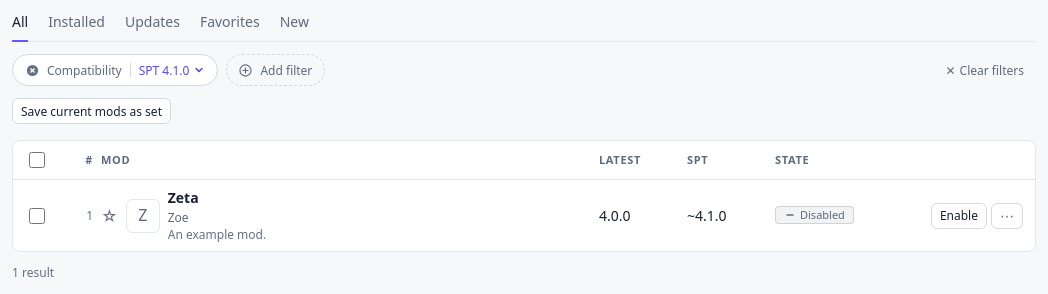
Test: the columns a quick tab shows › shows a dash where the catalog knows no installed version
The width and height of the screenshot is (1048, 294).
Expected: the checkbox named "Select Zeta" is shown, [29,208,45,224]
What coordinates should you click on to do the following:
click the button "Installed"
I would click on:
 (77, 27)
Its box is [48,12,105,42].
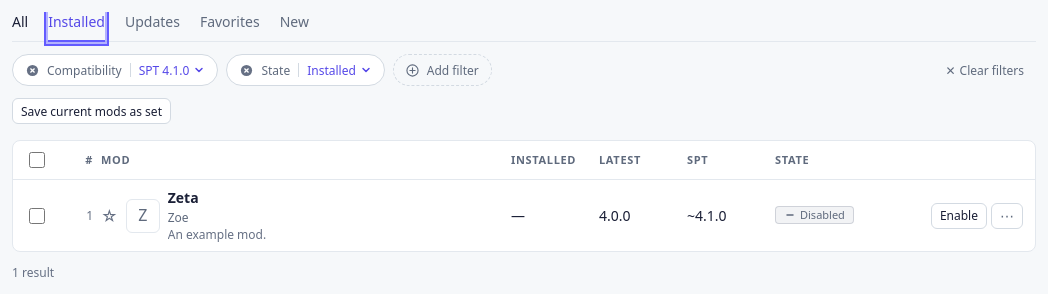
Expected: the text "Disabled" is shown, [775,206,854,224]
Now the text "—" is shown, box [511,206,525,225]
